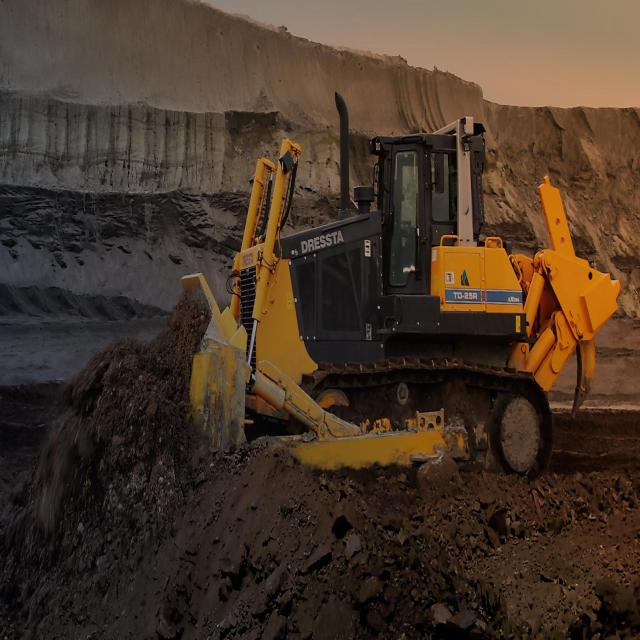Bulldozer: (157, 83, 617, 530)
